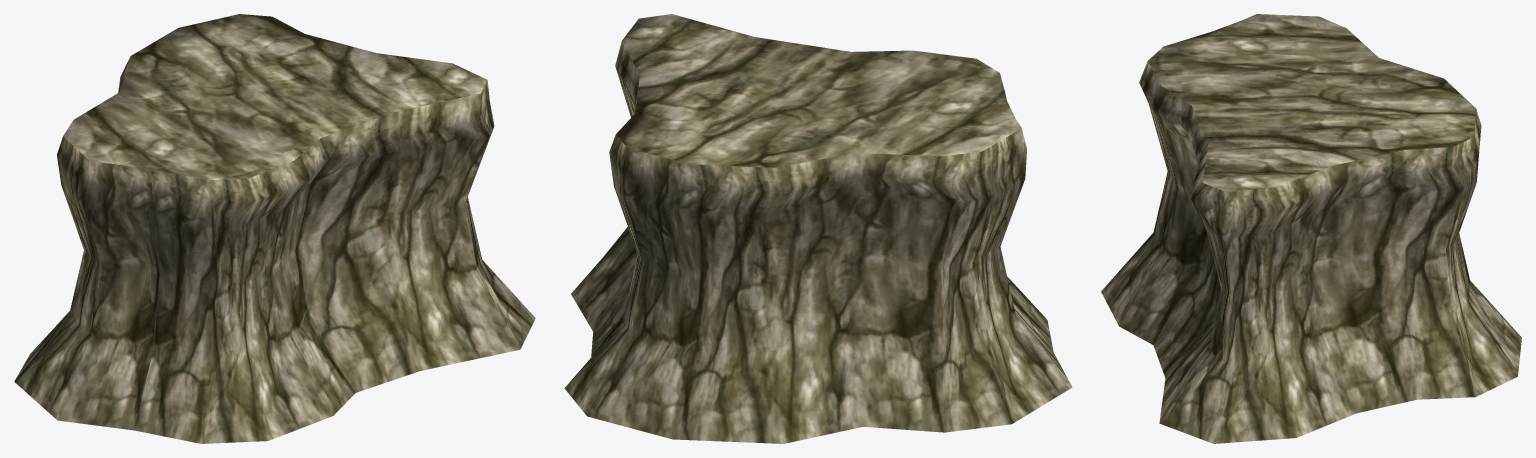
Rendered from CB_NEWPLAYSURFACE_CB_PLAYSURFACE06.fbx.
The picture shows the model from 3 angles, left to right: view 1: azimuth 30°, elevation 25°; view 2: azimuth 150°, elevation 25°; view 3: azimuth 270°, elevation 25°; orthographic projection. The views are drawn at different scales.
Parts seen in each view (by area): view 1: CB_NEWPLAYSURFACE_CB_PLAYSURFACE06; view 2: CB_NEWPLAYSURFACE_CB_PLAYSURFACE06; view 3: CB_NEWPLAYSURFACE_CB_PLAYSURFACE06.
Part boxes in pixels (x1,y1,x2,y2): CB_NEWPLAYSURFACE_CB_PLAYSURFACE06: (14, 14, 535, 443); CB_NEWPLAYSURFACE_CB_PLAYSURFACE06: (564, 14, 1072, 443); CB_NEWPLAYSURFACE_CB_PLAYSURFACE06: (1101, 14, 1521, 443).
Bounding box in the file's own units: 120813 × 60630 × 99409.
2 materials, 2 textured.
